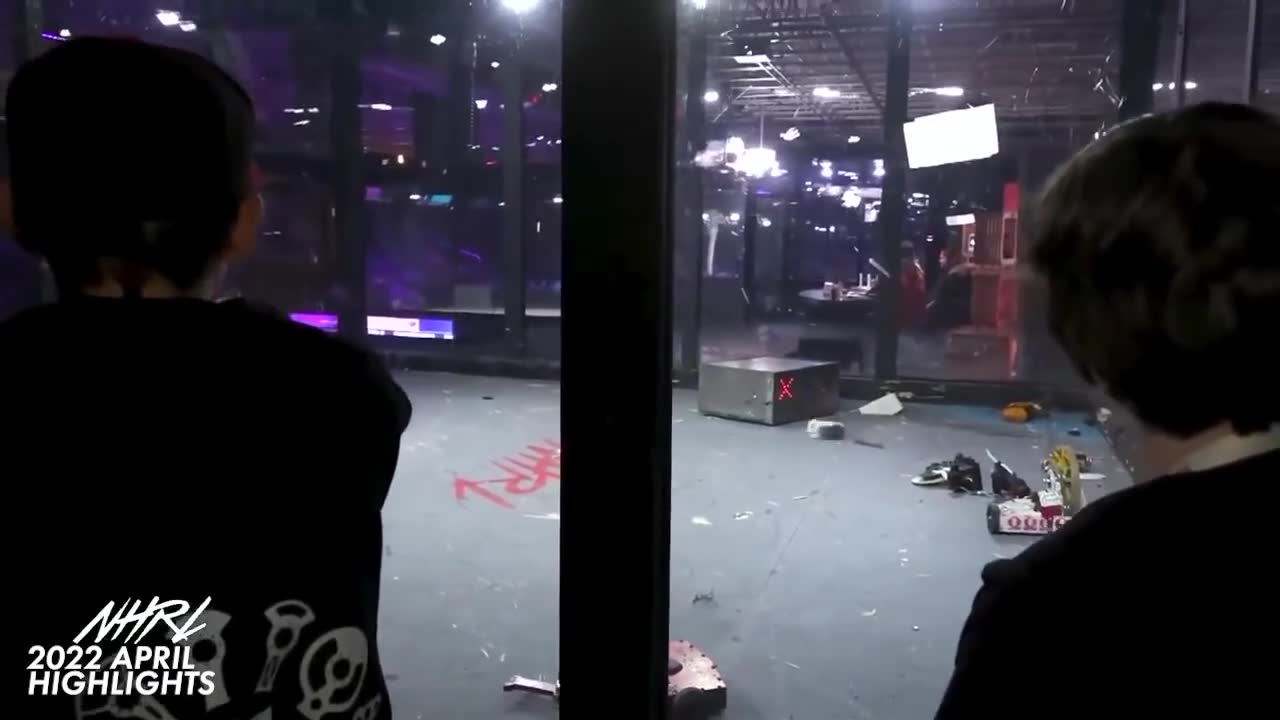combatbot: (505, 637, 728, 717), (987, 447, 1087, 536), (911, 449, 984, 497), (1000, 400, 1048, 425), (805, 417, 847, 443)
debris: (860, 394, 909, 418)
housebot: (701, 351, 840, 427)
